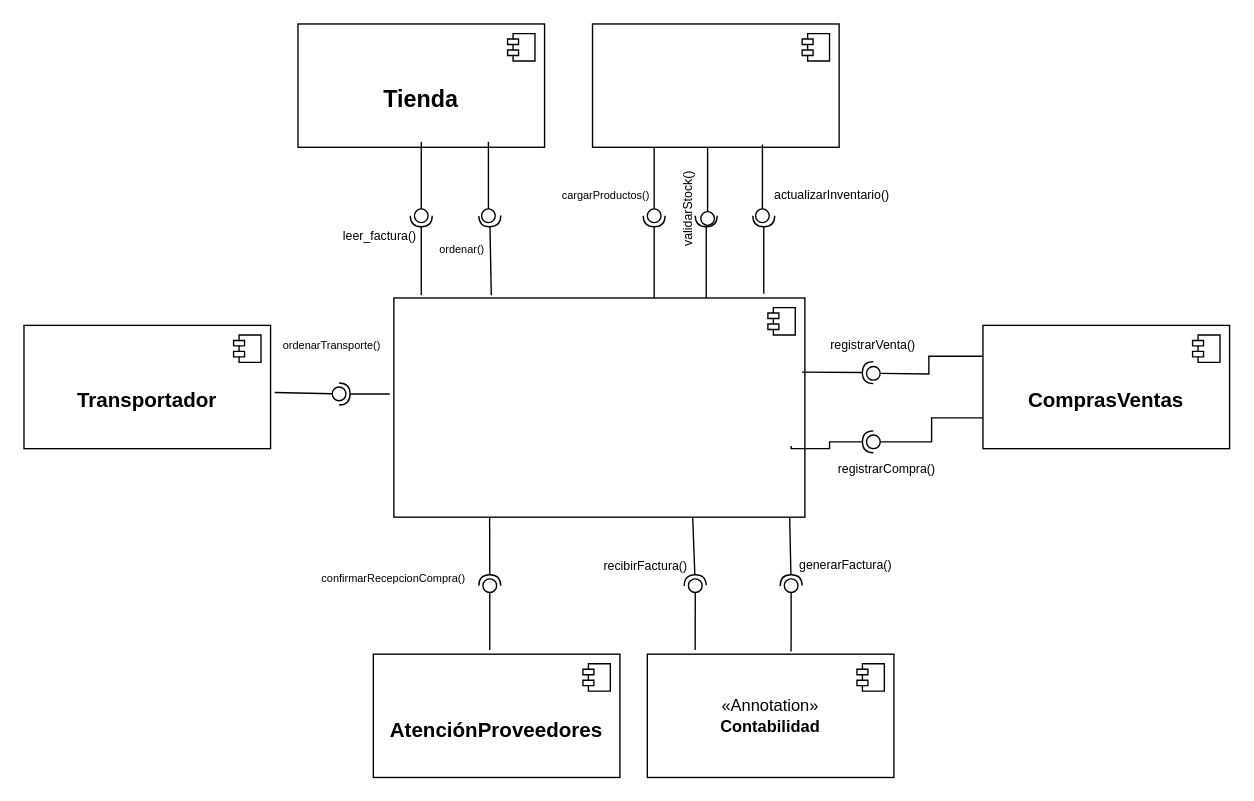
The diagram is 1254 pixels wide and 801 high, and some of its shapes have lost their labels. The box of each missing label's shape, as (x1, y1, x2, y2) in pixels:
Inventario: (591, 23, 839, 147)
«middleWareController()» MiddleWare «middleWareControllerProveedores()»: (393, 297, 805, 517)
